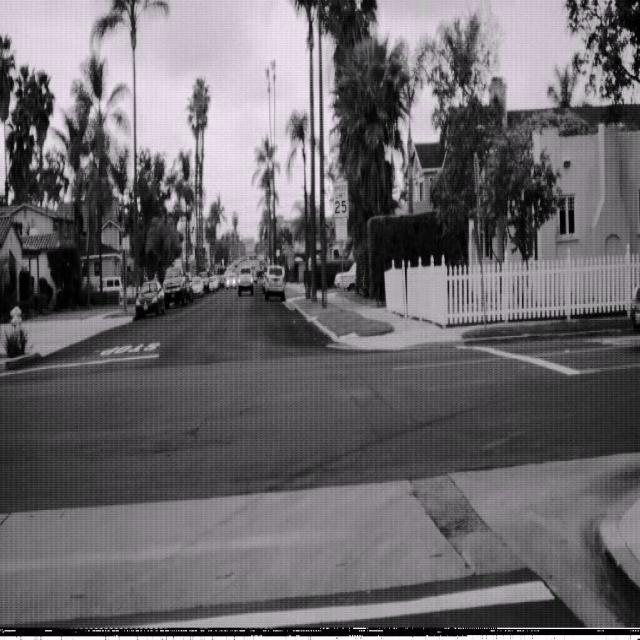speedLimit25: (332, 179, 349, 218)
